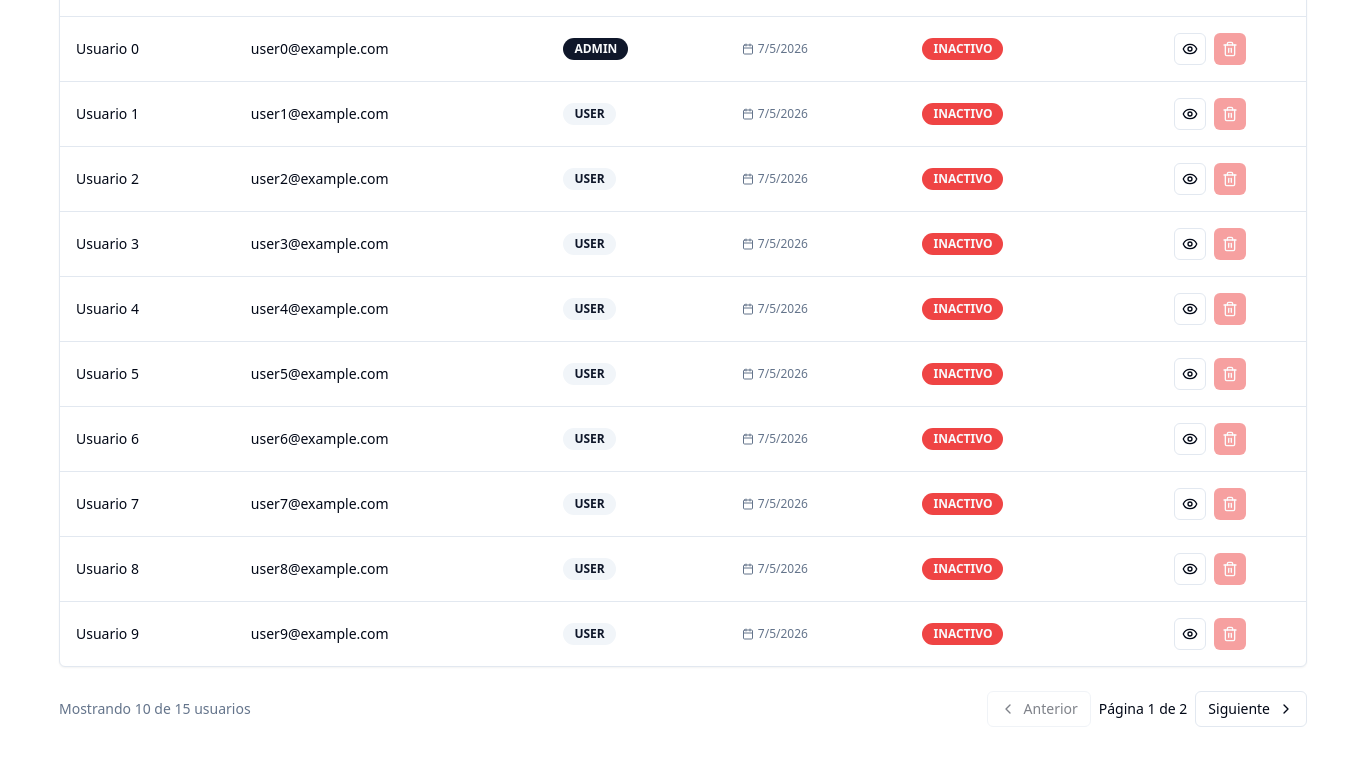
UsersPage › Paginación en límites › debería tener "Anterior" disabled en pág. 1 y "Siguiente" disabled en pág. final
(page scrolled)
Expected: the text "Usuario 0" is shown, 60,16 -> 235,81
Expected: the button "Anterior" is disabled, 987,690 -> 1091,726
# ─ Navega a la última página ─
Click the button "Siguiente": (1251, 708) 1195,690 -> 1307,726
(page scrolled)
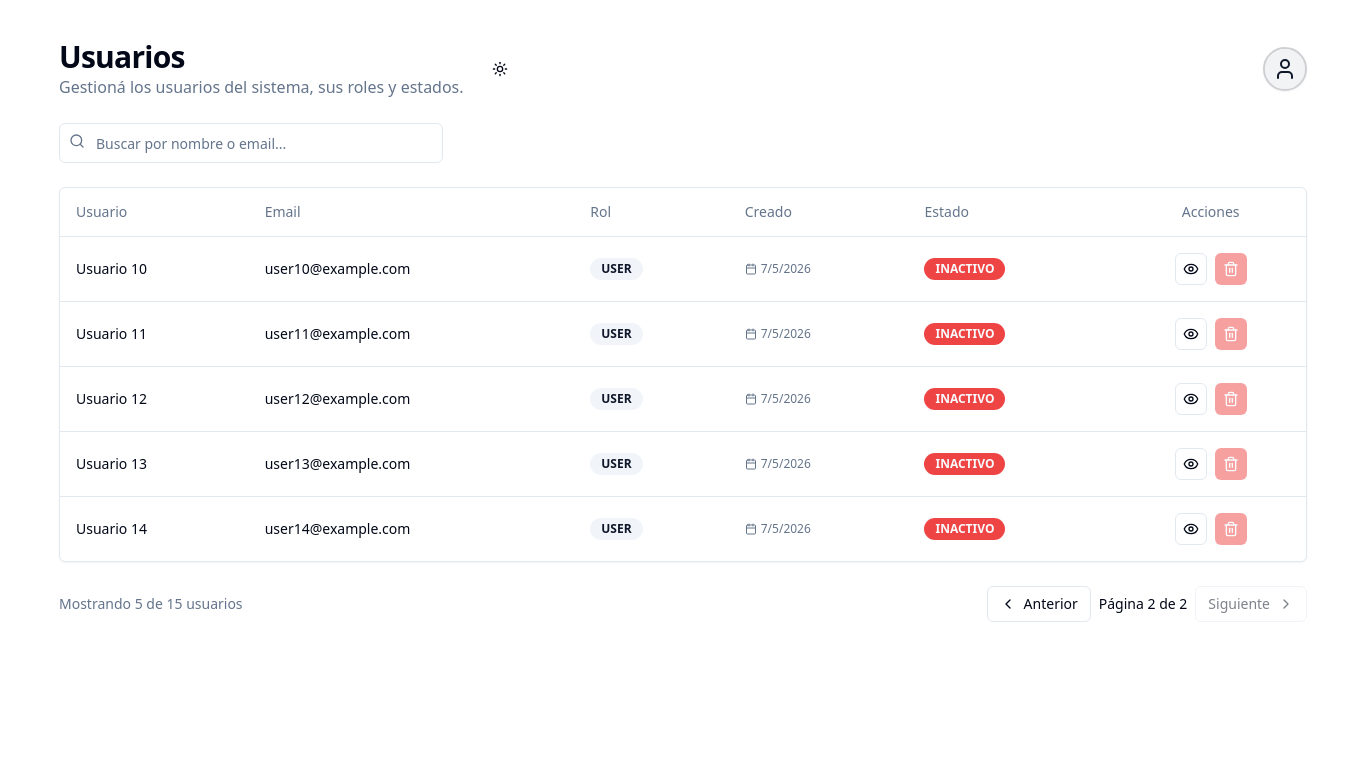
Now the text "Usuario 10" is shown, box 60,236 -> 249,301
Now the button "Siguiente" is disabled, box 1195,586 -> 1307,622
Now the button "Anterior" is enabled, box 987,586 -> 1091,622
